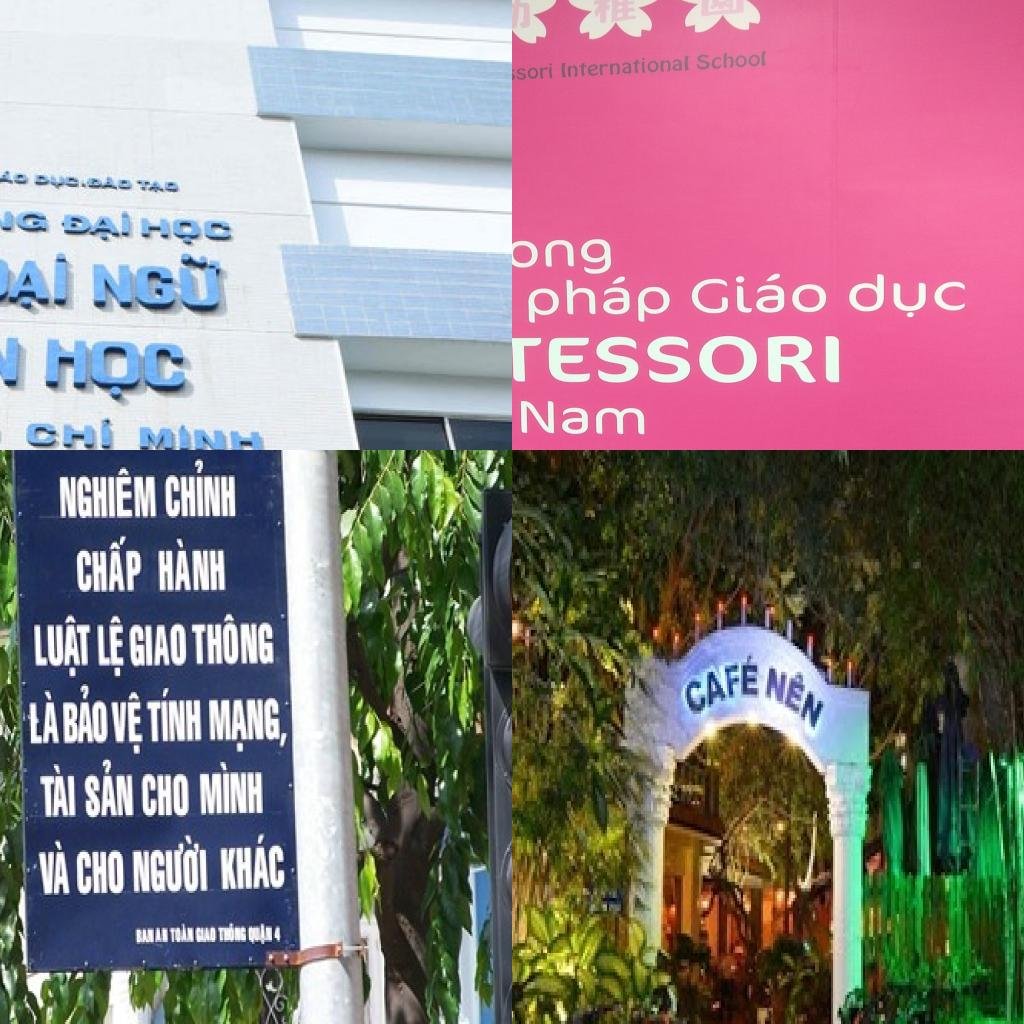text: (512, 333, 842, 385), (42, 336, 190, 405), (90, 250, 224, 314), (524, 273, 673, 324), (677, 643, 761, 727), (759, 649, 831, 740), (688, 270, 828, 316), (56, 465, 162, 524), (189, 604, 278, 672), (846, 272, 968, 320), (160, 457, 243, 524), (131, 831, 212, 897), (71, 532, 148, 600), (206, 696, 292, 756), (154, 530, 229, 598), (216, 827, 290, 895), (517, 398, 648, 436), (512, 228, 613, 277), (30, 612, 96, 680), (195, 760, 269, 819), (141, 682, 206, 749), (0, 250, 70, 310), (136, 420, 265, 450), (78, 756, 136, 821), (558, 53, 690, 79), (128, 620, 190, 674), (60, 684, 112, 747), (24, 415, 115, 450), (108, 684, 148, 760), (140, 216, 234, 247), (59, 206, 134, 244), (76, 846, 128, 899), (139, 772, 192, 819), (37, 762, 79, 821), (96, 612, 130, 682), (34, 840, 72, 901), (0, 195, 51, 235), (28, 686, 62, 745), (694, 48, 768, 72), (33, 172, 89, 192), (512, 61, 555, 85), (86, 173, 135, 192), (134, 178, 182, 196), (246, 920, 275, 948), (216, 920, 248, 944), (0, 166, 31, 186), (169, 922, 195, 944), (194, 926, 218, 944), (134, 928, 155, 946), (155, 926, 171, 946), (274, 924, 282, 946)
